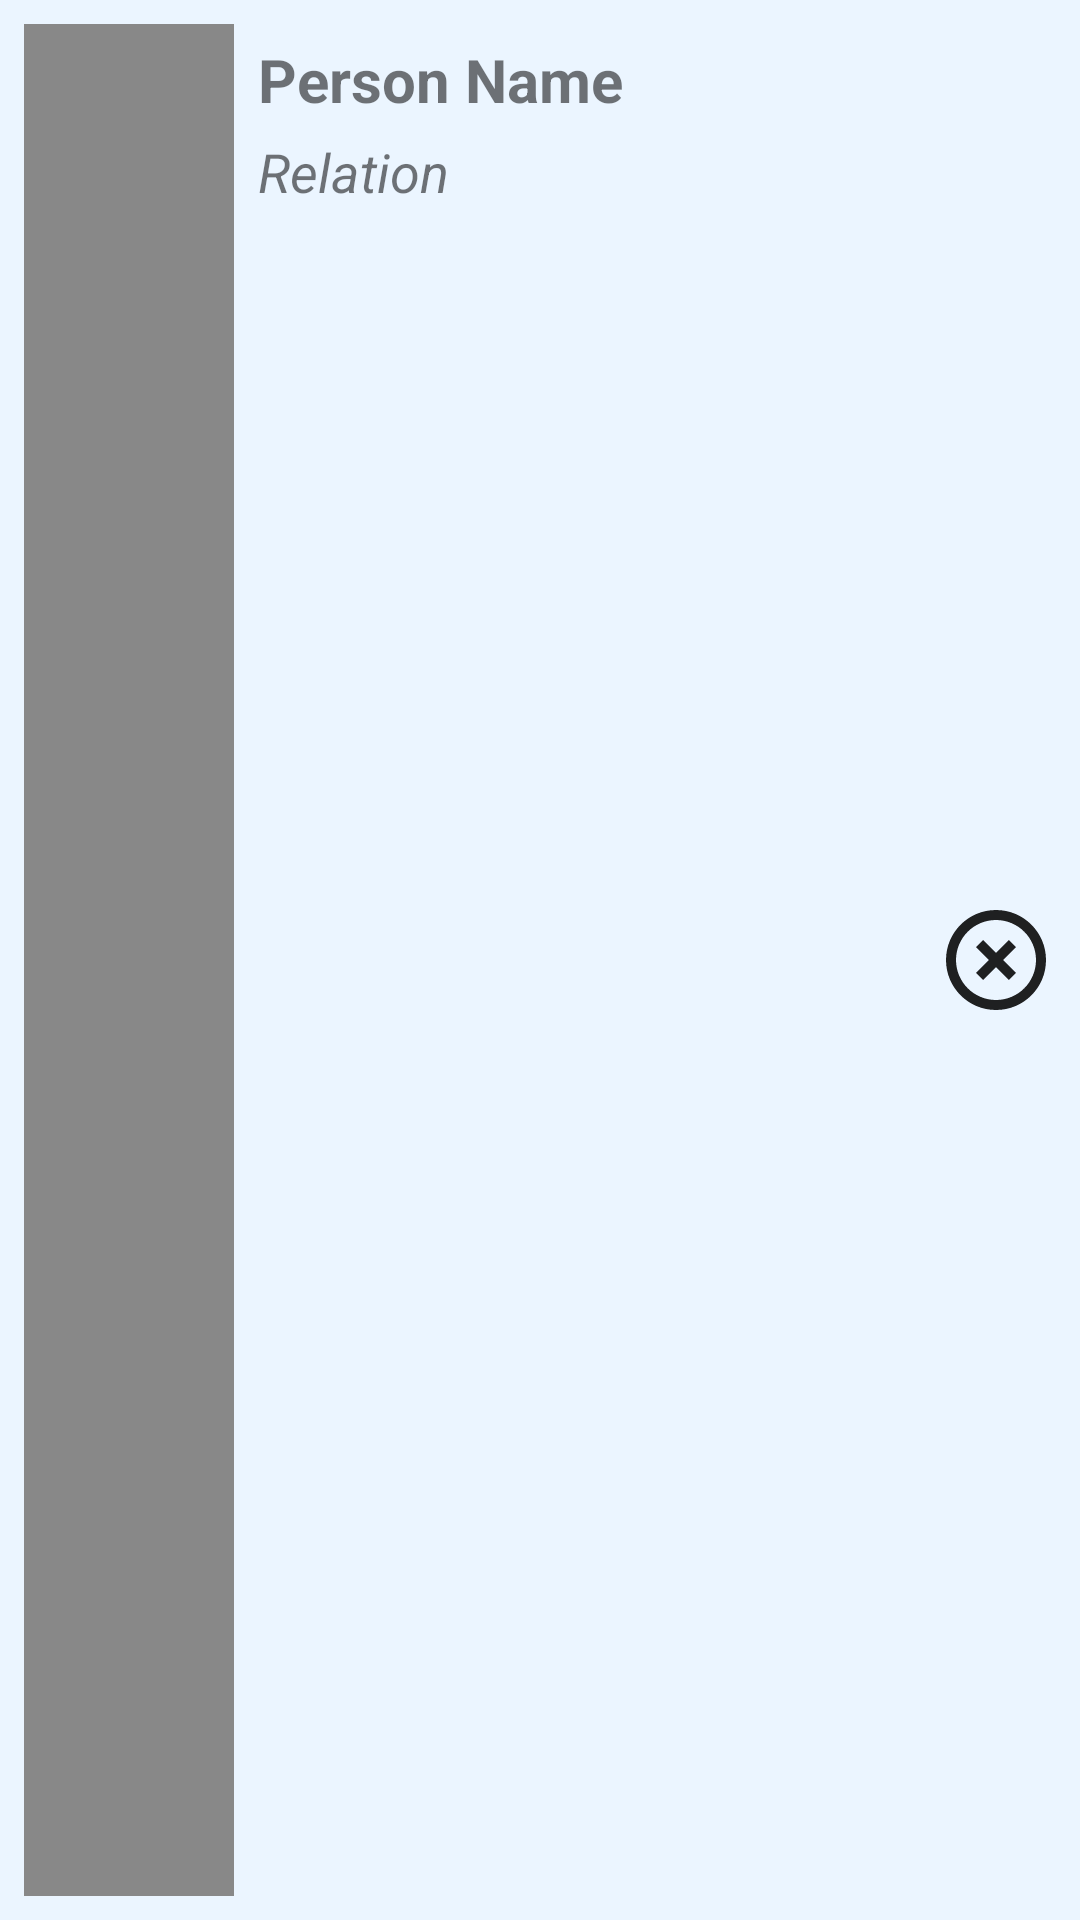

Named icons in this screenshot (1080*1920) and their bounding boxes, bbox=(x1, y1, x2, y2):
cancel thumbnail: bbox=(946, 910, 1046, 1010)
